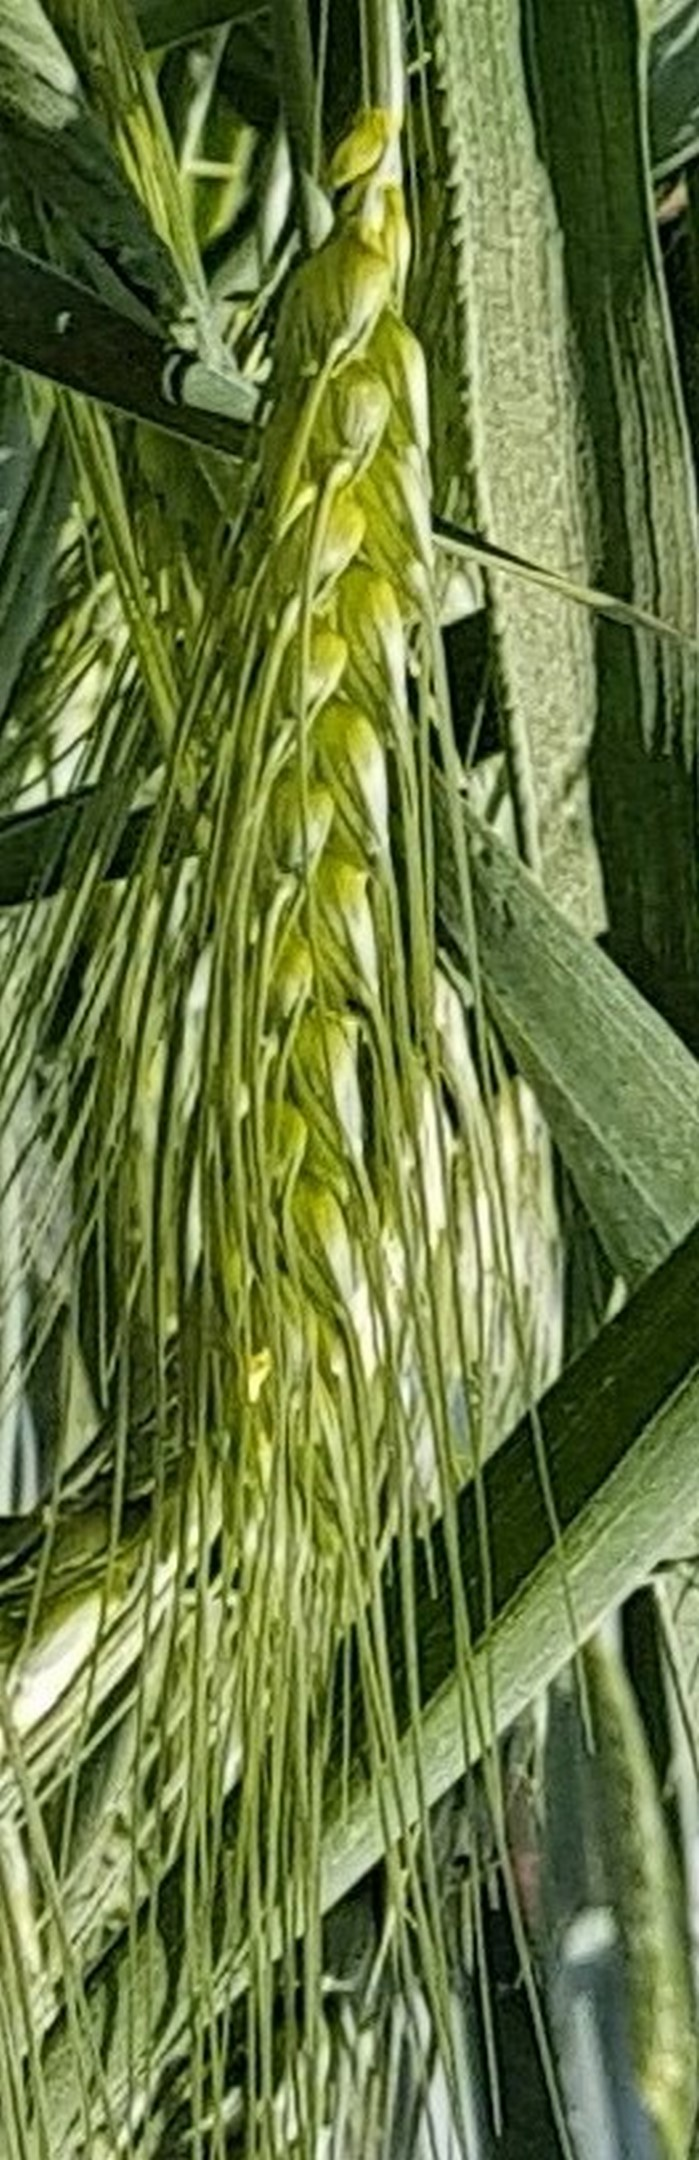Healthy Wheat: (170, 176, 462, 1522)
